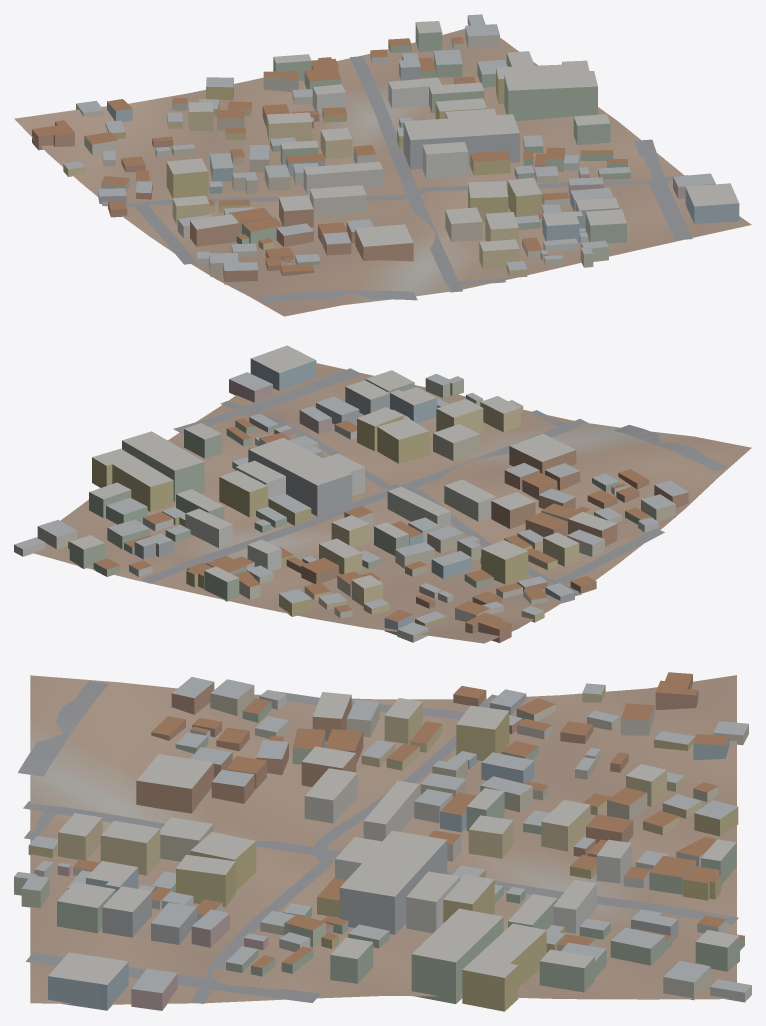
3 renders of one model, top to bottom at view 1: azimuth 30°, elevation 25°; view 2: azimuth 150°, elevation 25°; view 3: azimuth 270°, elevation 25°, orthographic. The views are drawn at different scales.
Parts seen in each view (by area): view 1: Lo; view 2: Lo; view 3: Lo.
Boxes of the visible parts, x1,y1,x2,y2 form: Lo: (14, 14, 751, 316); Lo: (14, 345, 751, 643); Lo: (14, 672, 751, 1011).
Size of the model in its own units: 270 by 18.48 by 267.
